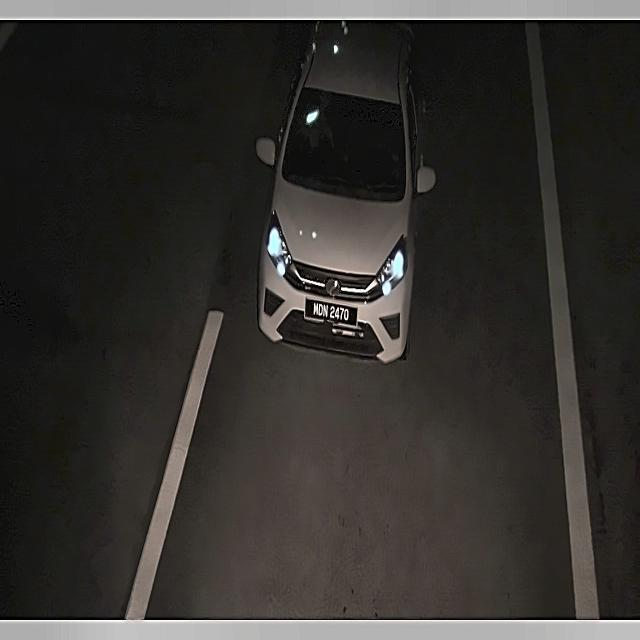car: (304, 296, 354, 330)
